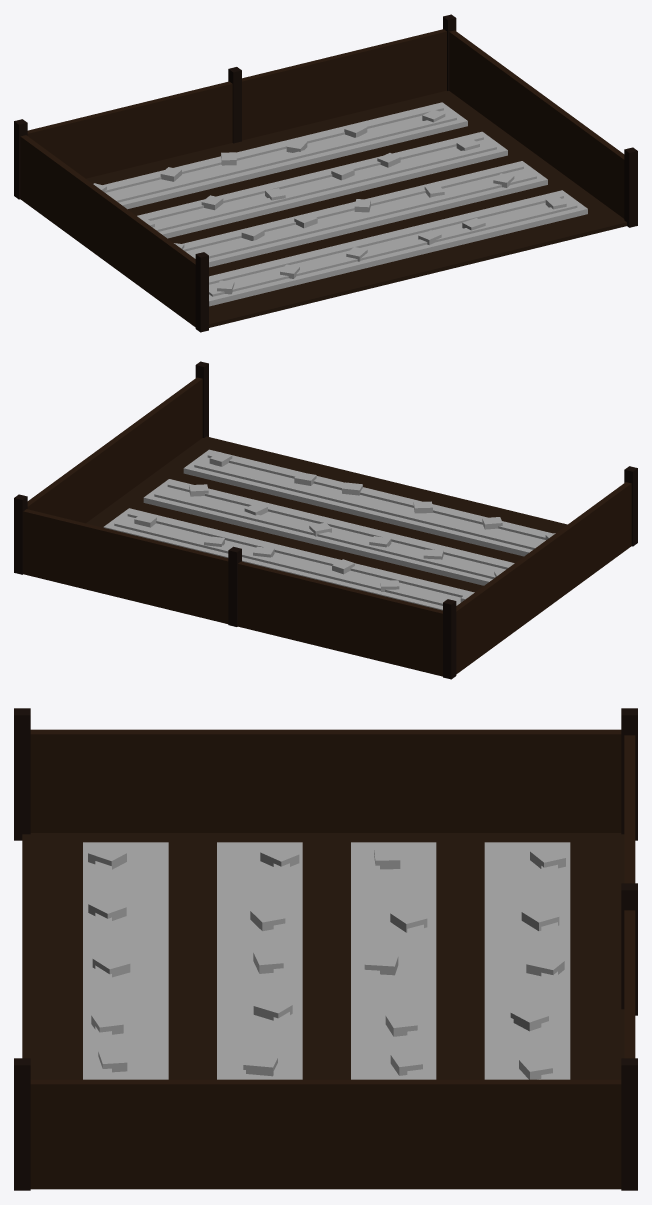
Rendered from garden_bare.fbx.
The picture shows the model from 3 angles, top to bottom: view 1: azimuth 30°, elevation 25°; view 2: azimuth 150°, elevation 25°; view 3: azimuth 270°, elevation 25°; orthographic projection. The views are drawn at different scales.
Parts seen in each view (by area): view 1: garden_bare; view 2: garden_bare; view 3: garden_bare.
Part boxes in pixels (x1,y1,x2,y2): garden_bare: (14,14,637,332); garden_bare: (14,361,637,679); garden_bare: (14,708,637,1190).
Size of the model in its own units: 6.12 by 1 by 4.52.
